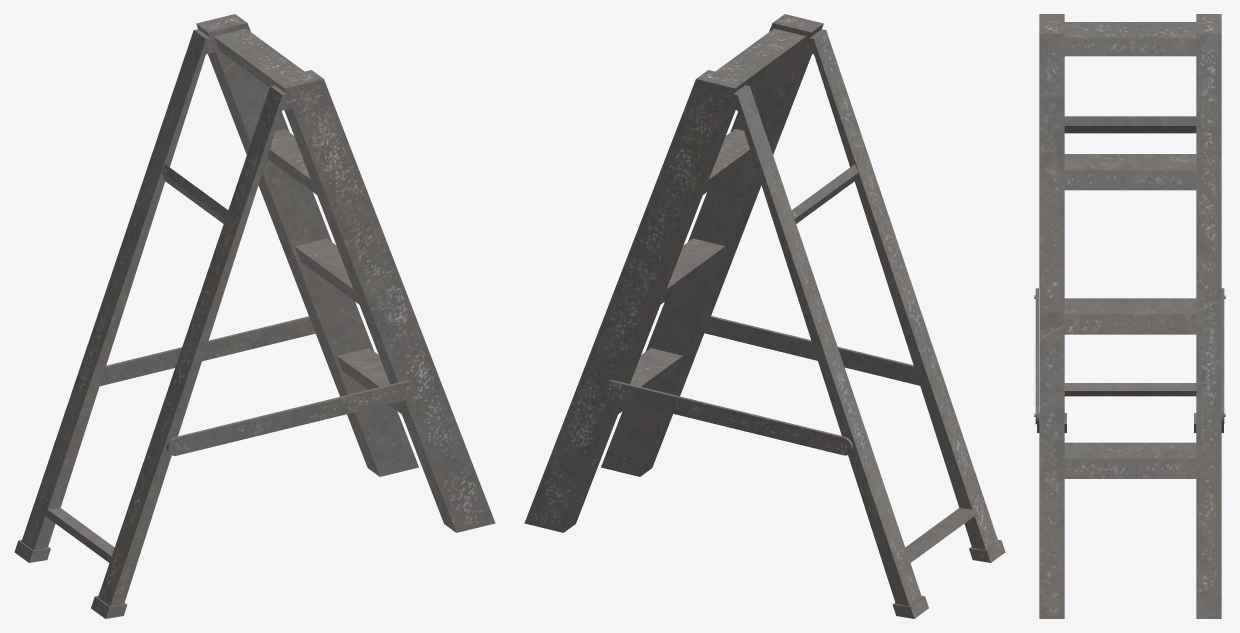
Rendered from ladder.glb.
3 views of the same model, side by side, from view 1: azimuth 30°, elevation 25°; view 2: azimuth 150°, elevation 25°; view 3: azimuth 270°, elevation 25° (orthographic). The views are drawn at different scales.
Visible parts, largest first — view 1: ladder_base_low, ladder_holder1_low, ladder_holder2_low; view 2: ladder_base_low, ladder_holder2_low, ladder_holder1_low; view 3: ladder_base_low, ladder_holder1_low, ladder_holder2_low.
Boxes of the visible parts, left/top/right/bottom form: ladder_base_low: left=14, top=14, right=495, bottom=618; ladder_holder1_low: left=166, top=380, right=417, bottom=455; ladder_holder2_low: left=100, top=316, right=315, bottom=386; ladder_base_low: left=524, top=14, right=1005, bottom=618; ladder_holder2_low: left=603, top=380, right=853, bottom=455; ladder_holder1_low: left=704, top=316, right=919, bottom=385; ladder_base_low: left=1037, top=14, right=1223, bottom=618; ladder_holder1_low: left=1034, top=288, right=1038, bottom=424; ladder_holder2_low: left=1221, top=288, right=1225, bottom=424.
Bounding box in the file's own units: 1.26 × 1.5 × 0.5187.
Materials: 1 (1 with a texture image).
